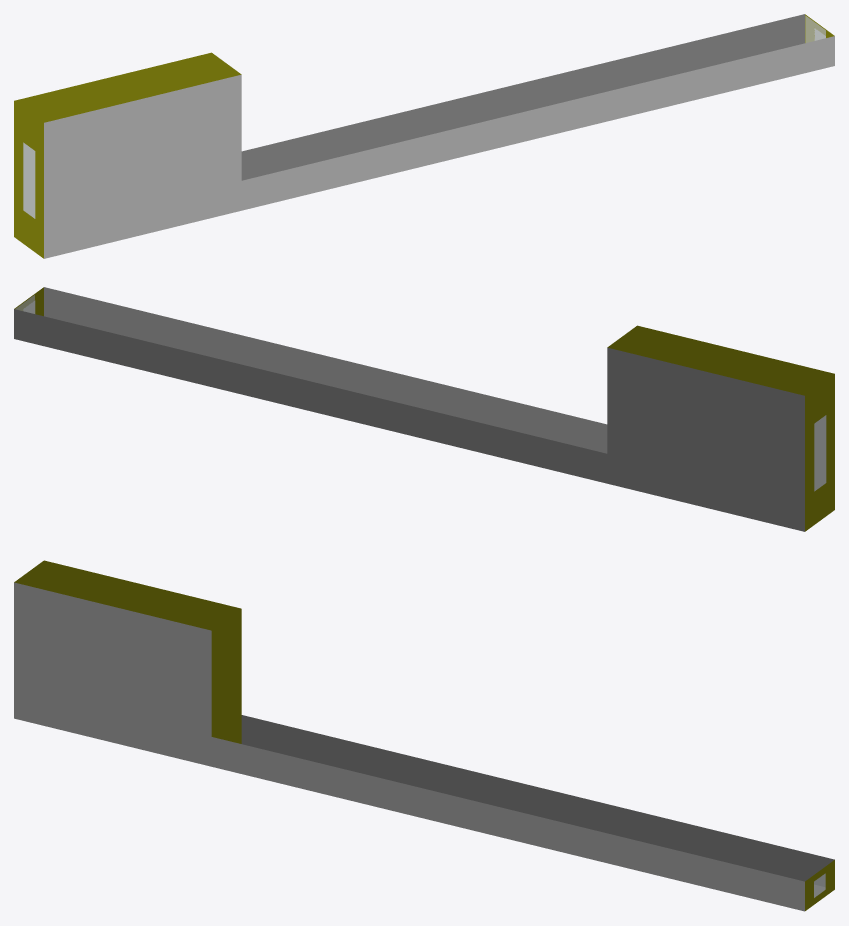
The model's file is idf.obj.
3 renders of one model, top to bottom at view 1: azimuth 30°, elevation 25°; view 2: azimuth 150°, elevation 25°; view 3: azimuth 330°, elevation 25°, orthographic.
Size of the model in its own units: 46.33 by 7.62 by 3.05.
